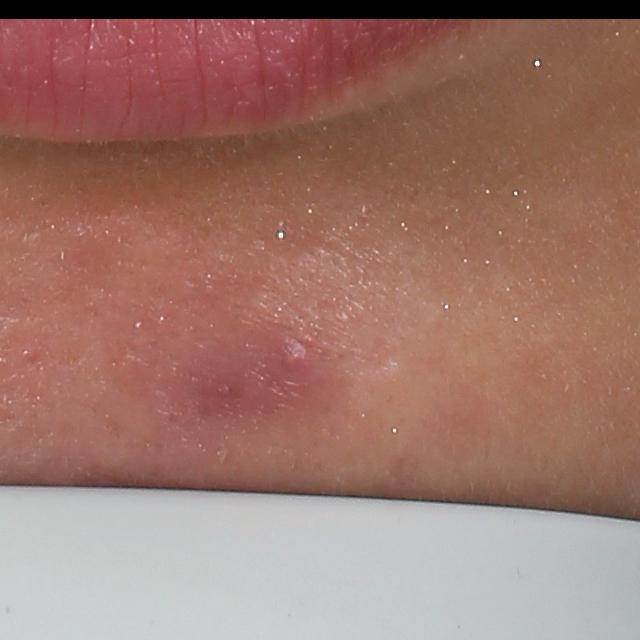papule: (276, 334, 315, 379)
